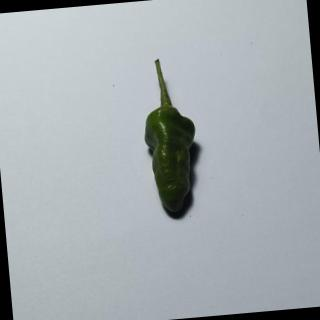Cabai Hijau: (132, 52, 208, 224)
